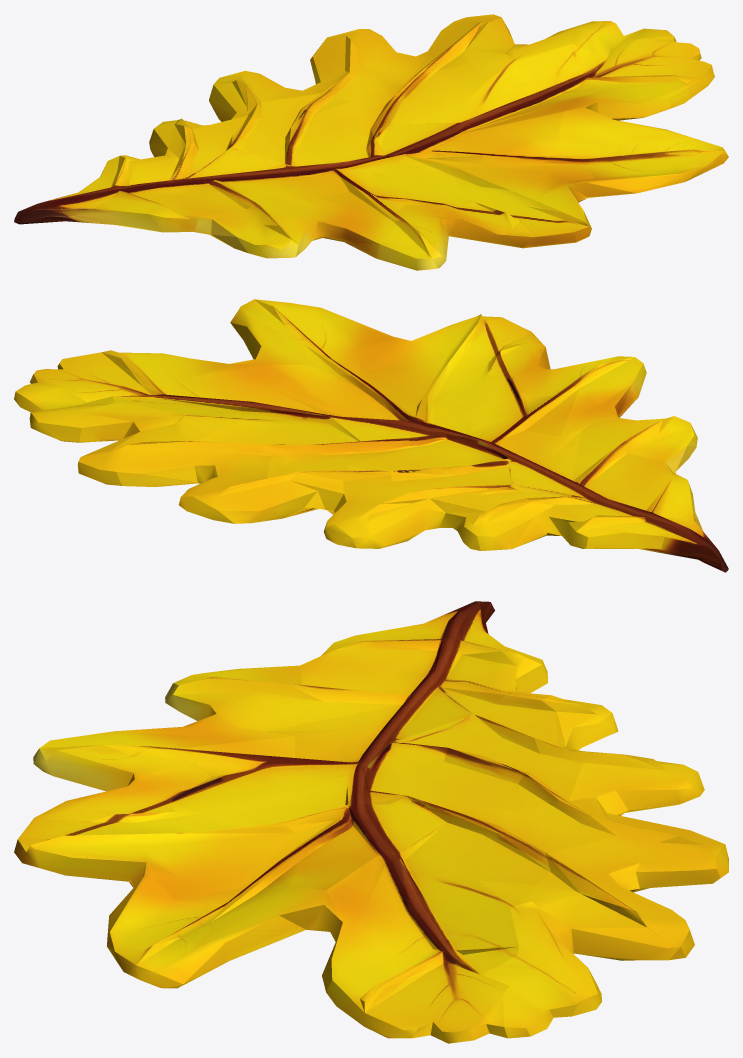
Rendered from leaf_b.glb.
3 renders of one model, top to bottom at view 1: azimuth 30°, elevation 25°; view 2: azimuth 150°, elevation 25°; view 3: azimuth 270°, elevation 25°, orthographic. The views are drawn at different scales.
Bounding box in the file's own units: 1.9 × 0.099 × 1.28.
1 material, 1 textured.
